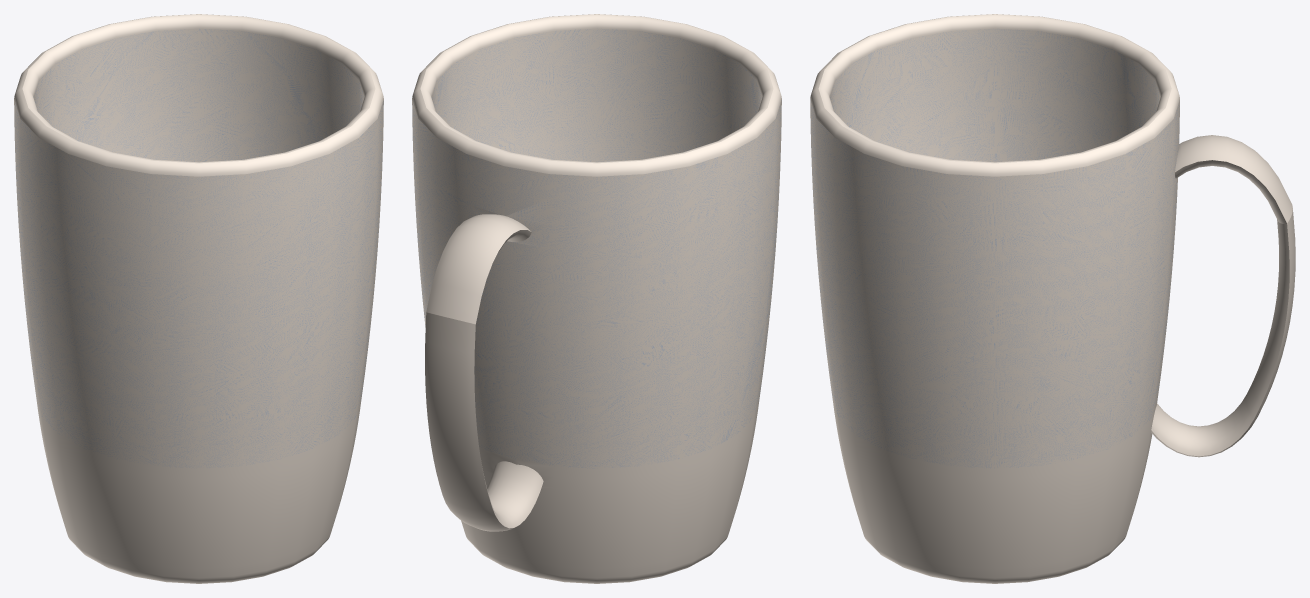
The picture shows the model from 3 angles, left to right: view 1: azimuth 30°, elevation 25°; view 2: azimuth 150°, elevation 25°; view 3: azimuth 270°, elevation 25°; orthographic projection.
Parts seen in each view (by area): view 1: mesh1_mesh1-geometry, mesh1_mesh1-geometry_1; view 2: mesh1_mesh1-geometry, mesh1_mesh1-geometry_3, mesh1_mesh1-geometry_1; view 3: mesh1_mesh1-geometry, mesh1_mesh1-geometry_1, mesh1_mesh1-geometry_3.
Part boxes in pixels (<box>): mesh1_mesh1-geometry: <box>14,14,383,583</box>; mesh1_mesh1-geometry_1: <box>15,29,383,467</box>; mesh1_mesh1-geometry: <box>412,14,781,583</box>; mesh1_mesh1-geometry_3: <box>425,214,543,531</box>; mesh1_mesh1-geometry_1: <box>412,29,781,467</box>; mesh1_mesh1-geometry: <box>810,14,1179,583</box>; mesh1_mesh1-geometry_1: <box>811,30,1179,467</box>; mesh1_mesh1-geometry_3: <box>1151,135,1295,457</box>.
Size of the model in its own units: 0.4731 by 0.6248 by 0.6211.
